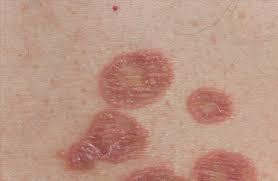annular lichen planus: (67, 31, 266, 181)
